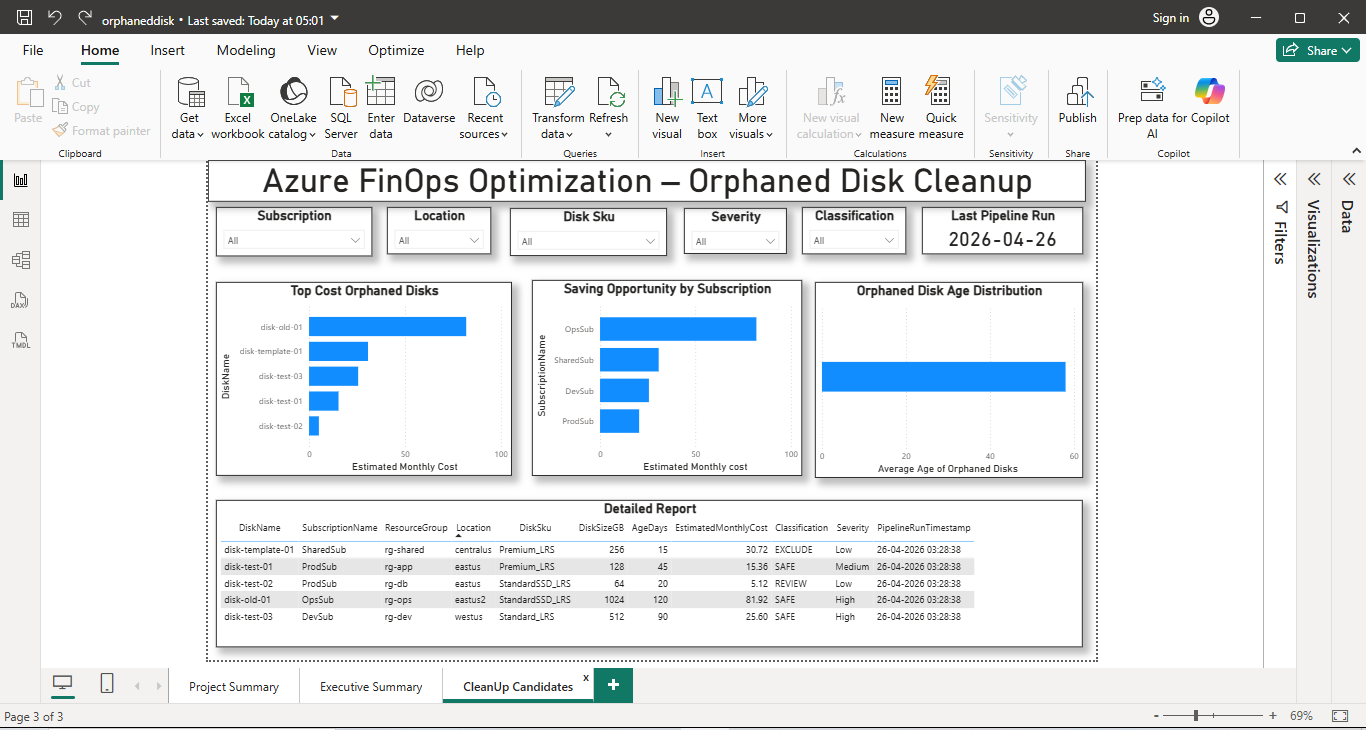

The page's visual inventory and layout, read from the dashboard file:
{"tool":"powerbi","page":{"name":"CleanUp Candidates","canvas":[1280,720],"ordinal":2},"visuals":[{"type":"clusteredBarChart","title":"Top Cost Orphaned Disks","fields":{"Category":["TopCleanupCandidates.DiskName"],"Y":["Sum(TopCleanupCandidates.EstimatedMonthlyCost)"]},"box":[11.5,175.7,426.2,279.4],"z":0},{"type":"clusteredBarChart","title":"Saving Opportunity by Subscription","fields":{"Category":["DiskRecommendations.SubscriptionName"],"Y":["Sum(DiskRecommendations.EstimatedMonthlyCost)"]},"box":[466.6,172.8,388.8,282.2],"z":1000},{"type":"clusteredBarChart","title":"Orphaned Disk Age Distribution","fields":{"Y":["DiskRecommendations.Average Age of Orphaned Disks"]},"box":[874.1,175.7,385.9,282.2],"z":2000},{"type":"tableEx","title":"Detailed Report","fields":{"Values":["DiskRecommendations.DiskName","DiskRecommendations.SubscriptionName","DiskRecommendations.ResourceGroup","DiskRecommendations.Location","DiskRecommendations.DiskSku","DiskRecommendations.DiskSizeGB","DiskRecommendations.AgeDays","DiskRecommendations.EstimatedMonthlyCost","DiskRecommendations.Classification","DiskRecommendations.Severity","DiskRecommendations.PipelineRunTimestamp"]},"box":[11.5,489.6,1248.5,211.7],"z":3000},{"type":"slicer","title":"Subscription","fields":{"Values":["DiskRecommendations.SubscriptionName"]},"box":[11.5,67.7,224.6,70.6],"z":4000},{"type":"slicer","title":"Location","fields":{"Values":["DiskRecommendations.Location"]},"box":[257.8,67.7,149.8,67.7],"z":5000},{"type":"slicer","title":"Disk Sku","fields":{"Values":["DiskRecommendations.DiskSku"]},"box":[434.9,69.1,226.1,69.1],"z":6000},{"type":"slicer","title":"Severity","fields":{"Values":["DiskRecommendations.Severity"]},"box":[685.4,69.1,148.3,66.2],"z":7000},{"type":"slicer","title":"Classification","fields":{"Values":["DiskRecommendations.Classification"]},"box":[855.4,67.7,149.8,67.7],"z":8000},{"type":"card","title":"Last Pipeline Run","fields":{"Values":["DiskRecommendations.Last Pipeline Run"]},"box":[1028.2,67.7,231.8,67.7],"z":9000},{"type":"textbox","title":"Azure FinOps Optimization – Orphaned Disk Cleanup","box":[0,0,1264.3,60.5],"z":10000}]}

Visuals, with their boxes on the page's 1280x720 design canvas (x1, y1, x2, y2). These are canvas units, not pixel positions in the 1366x730 screenshot, which may show the page scaled, cropped or inside an application window:
"Top Cost Orphaned Disks" clusteredBarChart: [left=12, top=176, right=438, bottom=455]
"Saving Opportunity by Subscription" clusteredBarChart: [left=467, top=173, right=855, bottom=455]
"Orphaned Disk Age Distribution" clusteredBarChart: [left=874, top=176, right=1260, bottom=458]
"Detailed Report" tableEx: [left=12, top=490, right=1260, bottom=701]
"Subscription" slicer: [left=12, top=68, right=236, bottom=138]
"Location" slicer: [left=258, top=68, right=408, bottom=135]
"Disk Sku" slicer: [left=435, top=69, right=661, bottom=138]
"Severity" slicer: [left=685, top=69, right=834, bottom=135]
"Classification" slicer: [left=855, top=68, right=1005, bottom=135]
"Last Pipeline Run" card: [left=1028, top=68, right=1260, bottom=135]
"Azure FinOps Optimization – Orphaned Disk Cleanup" textbox: [left=0, top=0, right=1264, bottom=60]
